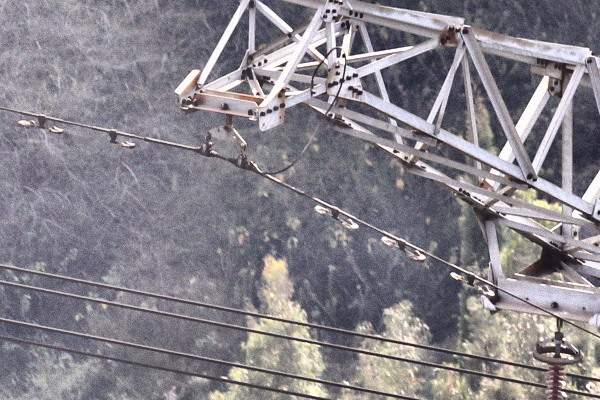damper: (377, 233, 428, 264), (312, 201, 361, 232), (448, 269, 497, 297), (15, 111, 65, 135)
damper_defect: (103, 126, 136, 149)
